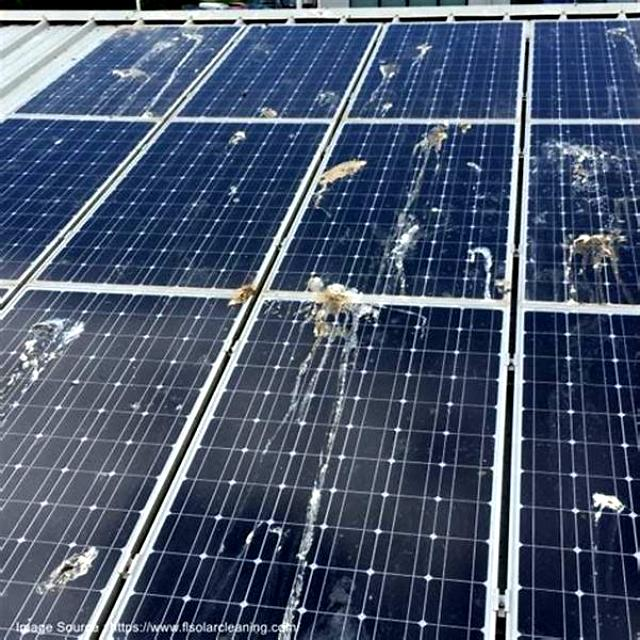bird: (0, 312, 116, 414), (296, 262, 398, 366), (209, 492, 309, 570), (547, 224, 640, 303), (27, 535, 128, 600), (568, 465, 640, 546), (206, 122, 272, 210), (94, 34, 178, 102), (284, 156, 385, 207), (361, 26, 446, 86), (457, 228, 517, 304), (411, 109, 461, 170), (222, 282, 272, 314)
